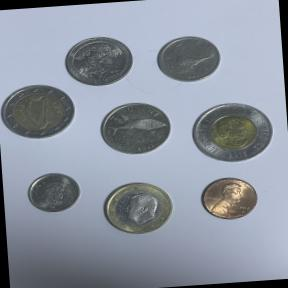coin: (184, 91, 284, 172), (94, 174, 182, 242), (92, 94, 177, 163), (0, 80, 78, 145), (61, 32, 138, 90), (195, 170, 267, 227), (22, 167, 86, 220)
